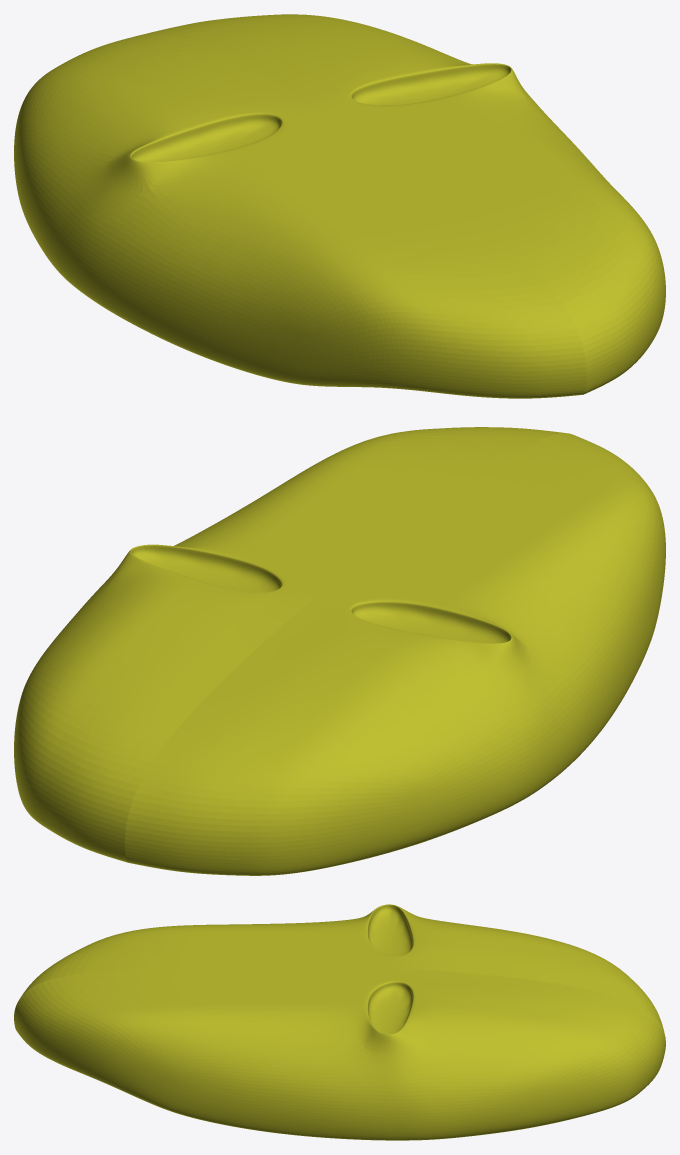
Rendered from Mask.Jump,Speed.fbx.
The picture shows the model from 3 angles, top to bottom: view 1: azimuth 30°, elevation 25°; view 2: azimuth 150°, elevation 25°; view 3: azimuth 270°, elevation 25°; orthographic projection. The views are drawn at different scales.
Parts seen in each view (by area): view 1: Mask; view 2: Mask; view 3: Mask.
Boxes of the visible parts, left/top/right/bottom form: Mask: left=14, top=14, right=665, bottom=398; Mask: left=14, top=427, right=665, bottom=875; Mask: left=14, top=904, right=665, bottom=1140.
Size of the model in its own units: 324 by 86.8 by 550.
